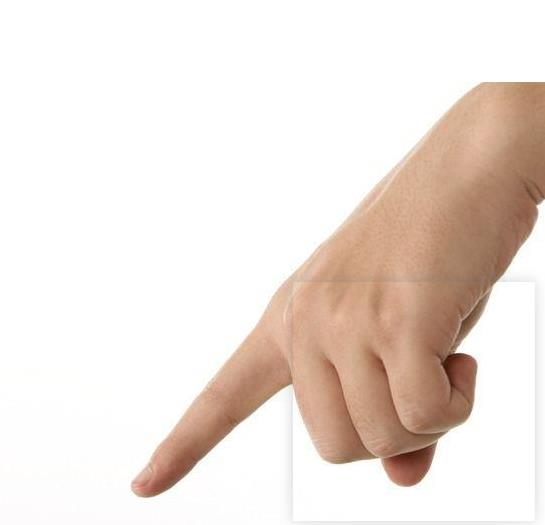up: (118, 188, 482, 503)
